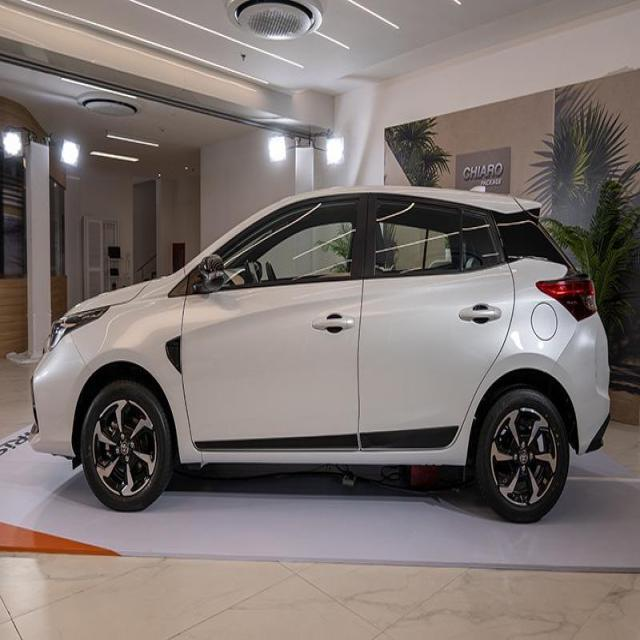Hatchback: (30, 186, 610, 522)
